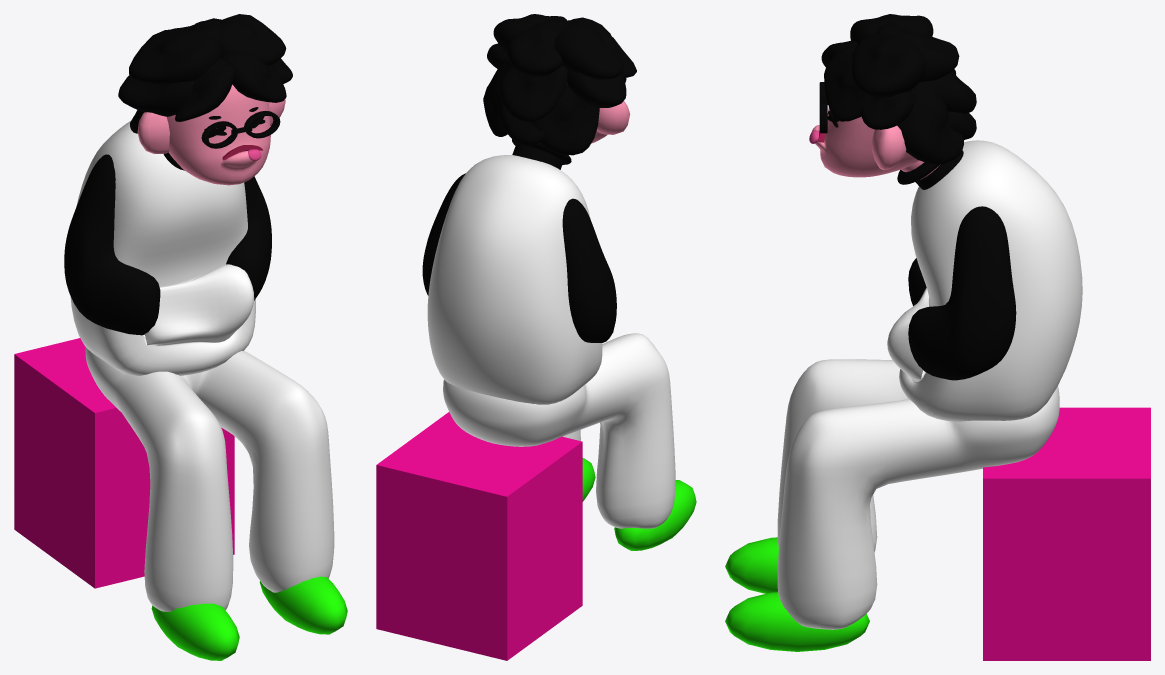
File: worker_agree.glb
3 views of the same model, side by side, from view 1: azimuth 30°, elevation 25°; view 2: azimuth 150°, elevation 25°; view 3: azimuth 270°, elevation 25° (orthographic). The views are drawn at different scales.
Visible parts, largest first — view 1: pCube10, pCube9, 1body1, 3-2body, pCube1, pSphere9.006, pCube13, pCube12, pSphere9.005, pSphere9.007, pSphere9.003, pSphere9.004 (+2 smaller); view 2: pCube9, 1body1, pCube10, 3-2body, pSphere9.006, pSphere9.010, pSphere9.009, pSphere9.008, pCube13, pSphere9.007, pSphere9.011, pSphere9.012 (+3 smaller); view 3: pCube9, pCube10, 1body1, 3-2body, pCube12, pCube1, pSphere9.005, pSphere9.011, pCube13, pSphere9.003, pSphere9.008, pSphere9.002 (+2 smaller).
Boxes of the visible parts, x1,y1,x2,y2 form: pCube10: [85, 334, 334, 611]; pCube9: [14, 338, 234, 588]; 1body1: [70, 121, 255, 375]; 3-2body: [64, 154, 271, 335]; pCube1: [137, 84, 285, 185]; pSphere9.006: [129, 29, 221, 85]; pCube13: [151, 603, 239, 660]; pCube12: [259, 576, 347, 634]; pSphere9.005: [217, 14, 286, 65]; pSphere9.007: [118, 75, 193, 116]; pSphere9.003: [221, 54, 286, 102]; pSphere9.004: [175, 57, 234, 121]; pCube9: [376, 412, 582, 660]; 1body1: [427, 155, 602, 404]; pCube10: [443, 333, 675, 528]; 3-2body: [422, 173, 616, 342]; pSphere9.006: [554, 17, 623, 79]; pSphere9.010: [531, 85, 599, 155]; pSphere9.009: [500, 65, 567, 122]; pSphere9.008: [507, 18, 569, 76]; pCube13: [614, 480, 696, 550]; pSphere9.007: [567, 70, 626, 107]; pSphere9.011: [483, 60, 511, 136]; pSphere9.012: [500, 101, 544, 145]; pCube9: [983, 407, 1150, 660]; pCube10: [777, 359, 1059, 629]; 1body1: [887, 140, 1082, 421]; 3-2body: [908, 206, 1016, 380]; pCube12: [725, 592, 869, 651]; pCube1: [812, 107, 939, 179]; pSphere9.005: [852, 33, 926, 98]; pSphere9.011: [897, 80, 963, 164]; pCube13: [725, 537, 778, 593]; pSphere9.003: [824, 46, 872, 121]; pSphere9.008: [875, 23, 959, 82]; pSphere9.002: [860, 90, 914, 129].
Bounding box in the file's own units: 0.4183 × 1.18 × 0.7618.
